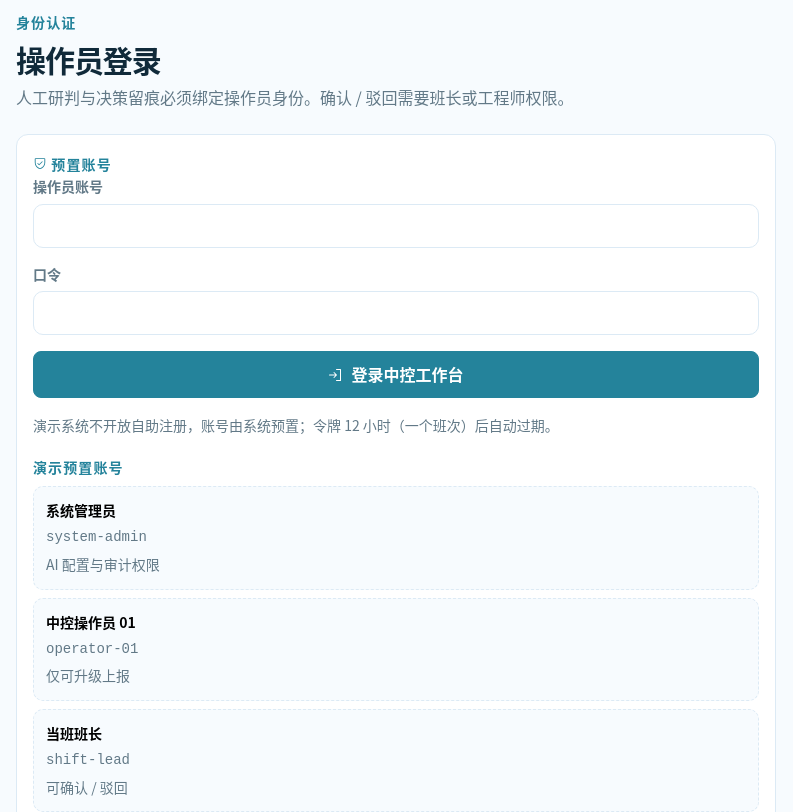
管理员演示登录 › 提供 system-admin 一键填充且明确不开放注册
The image size is (793, 812).
What coordinates should you click on to do the following:
click the button "系统管理员 system-admin AI 配置与审计权限"
I would click on:
 (81, 510)
Its box is [33,486,759,590].
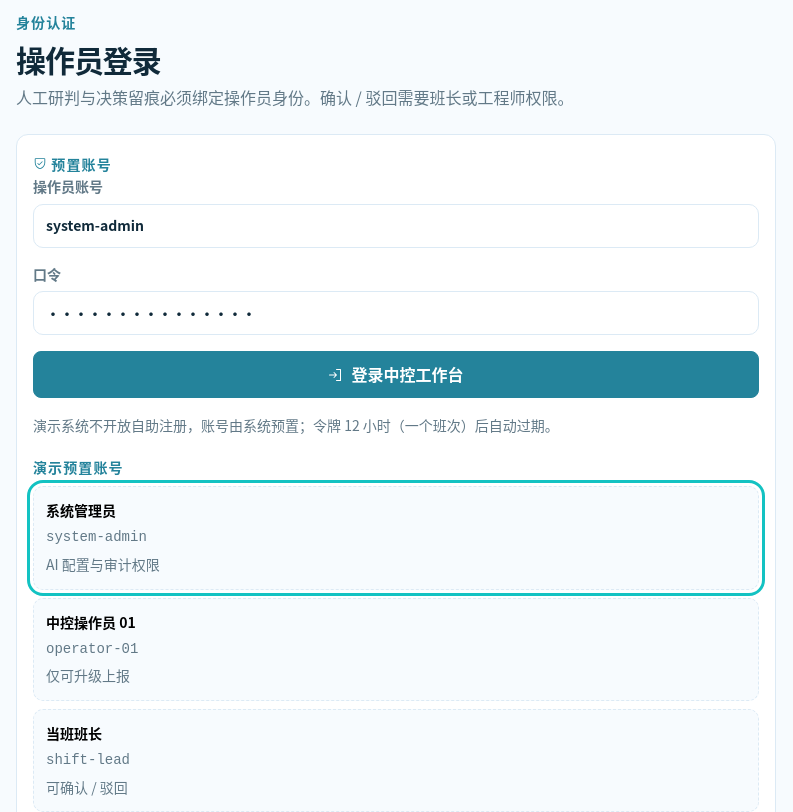
Expected: the text "演示系统不开放自助注册，账号由系统预置；令牌 12 小时（一个班次）后自动过期。" is shown, [33,415,559,435]
Expected: the field labelled "操作员账号" holds "system-admin", [33,204,759,248]
Expected: the password field labelled "口令" holds "demo-admin-2026", [33,291,759,335]
